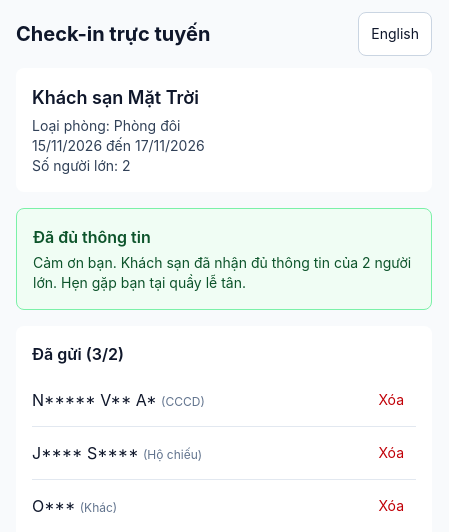
App › dates_and_document_type_are_displayed_for_people
expect the text "15/11/2026 đến 17/11/2026" is shown: met, box [32,137,205,154]
expect the text "(CCCD)" is shown: met, box [161,394,205,409]
Step 1. Click the button "English" → (395, 34), box [358,12,432,56]
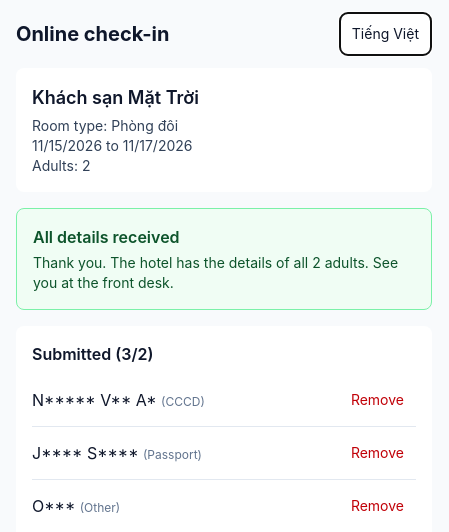
expect the text "(Passport)" is shown: met, box [143,447,202,462]
